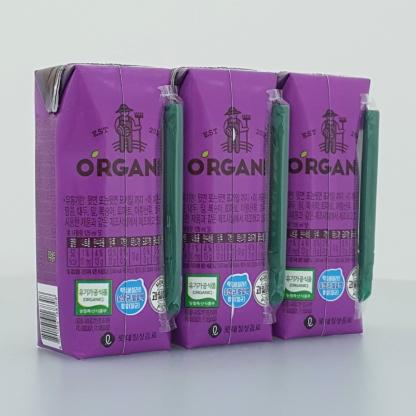---------------: (34, 61, 183, 360), (153, 66, 289, 349), (252, 71, 379, 340)
